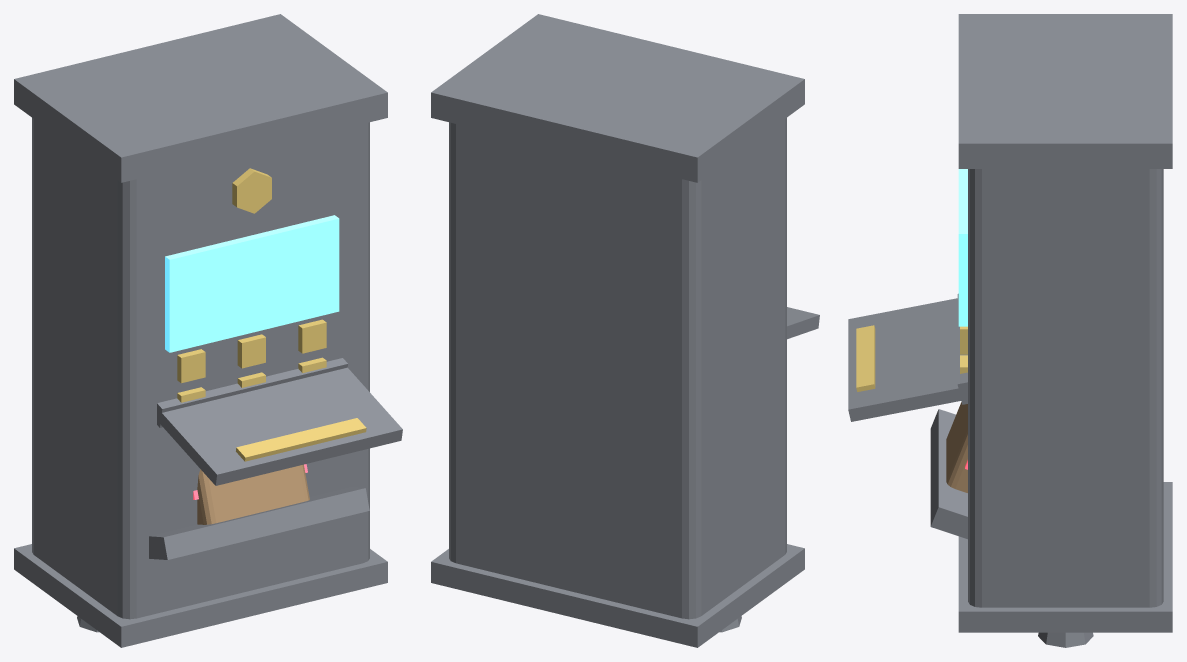
The model's file is pickups-and-collectibles-vending-hatch-open-60897158__19975.glb.
The picture shows the model from 3 angles, left to right: view 1: azimuth 30°, elevation 25°; view 2: azimuth 150°, elevation 25°; view 3: azimuth 270°, elevation 25°; orthographic projection.
Parts seen in each view (by area): view 1: body/iron, body/gem, flap/iron, body/gold, body/timber, flap/gold; view 2: body/iron, flap/iron; view 3: body/iron, flap/iron, body/timber, body/gem, flap/gold.
Part boxes in pixels (box(x1,y1,x2,y2)): body/iron: box(14, 14, 387, 647); body/gem: box(165, 215, 339, 352); flap/iron: box(157, 358, 402, 485); body/gold: box(177, 168, 326, 402); body/timber: box(197, 464, 309, 524); flap/gold: box(236, 418, 366, 461); body/iron: box(431, 14, 804, 647); flap/iron: box(787, 307, 819, 339); body/iron: box(930, 14, 1172, 647); flap/iron: box(848, 293, 967, 421); body/timber: box(946, 402, 967, 492); body/gem: box(958, 169, 967, 326); flap/gold: box(856, 325, 875, 391).
Size of the model in its own units: 0.66 by 1.21 by 0.6979.
